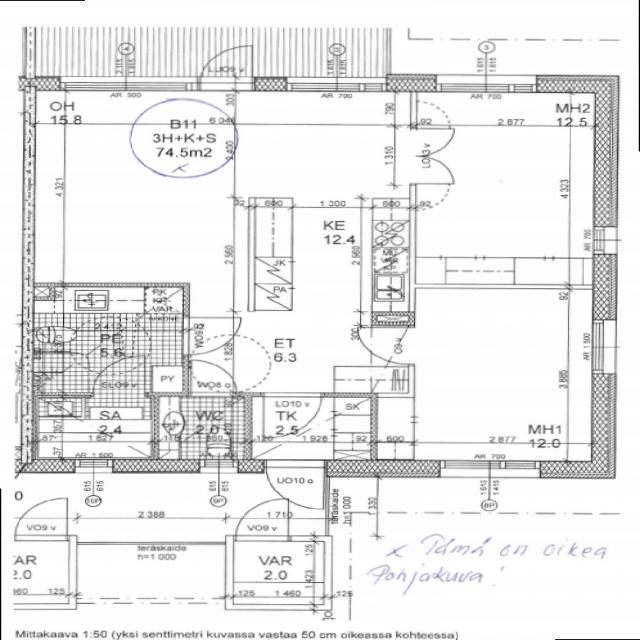door: (266, 460, 323, 513), (263, 392, 321, 438), (201, 41, 251, 91), (235, 498, 288, 541), (183, 317, 241, 355), (358, 327, 413, 364), (94, 356, 144, 396), (191, 360, 236, 396), (408, 128, 452, 156), (408, 156, 452, 184)
